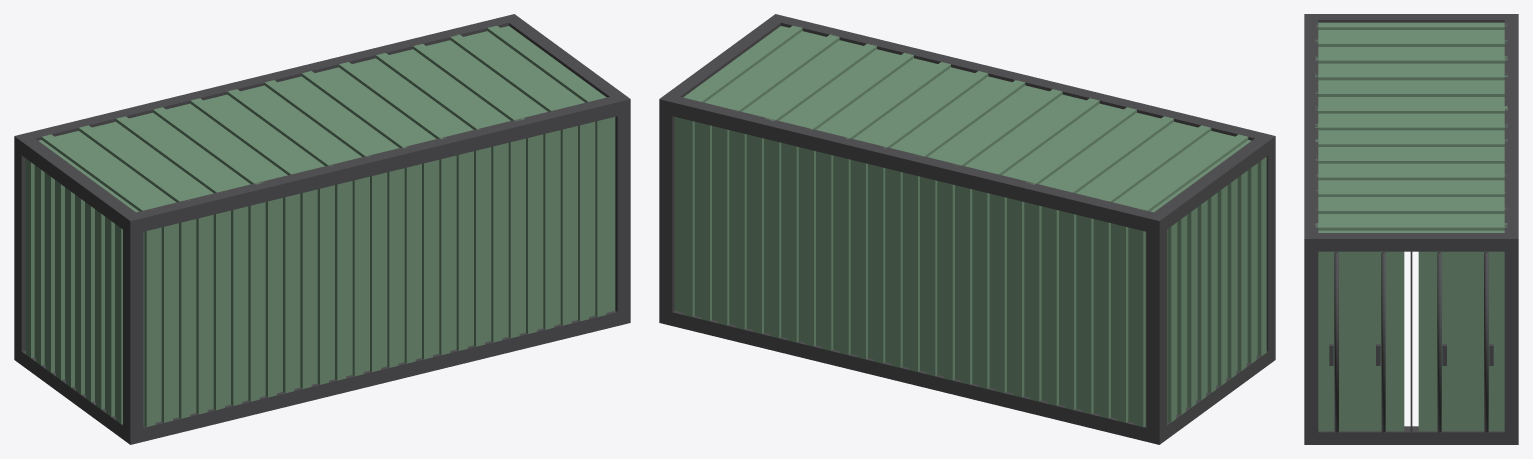
The model's file is container_green.glb.
3 renders of one model, left to right at view 1: azimuth 30°, elevation 25°; view 2: azimuth 150°, elevation 25°; view 3: azimuth 270°, elevation 25°, orthographic. The views are drawn at different scales.
Parts seen in each view (by area): view 1: Container; view 2: Container; view 3: Container.
Boxes of the visible parts, bbox=[...] form: Container: bbox=[14, 14, 630, 444]; Container: bbox=[659, 14, 1275, 444]; Container: bbox=[1304, 14, 1518, 444].
Size of the model in its own units: 6.12 by 2.59 by 2.44.
